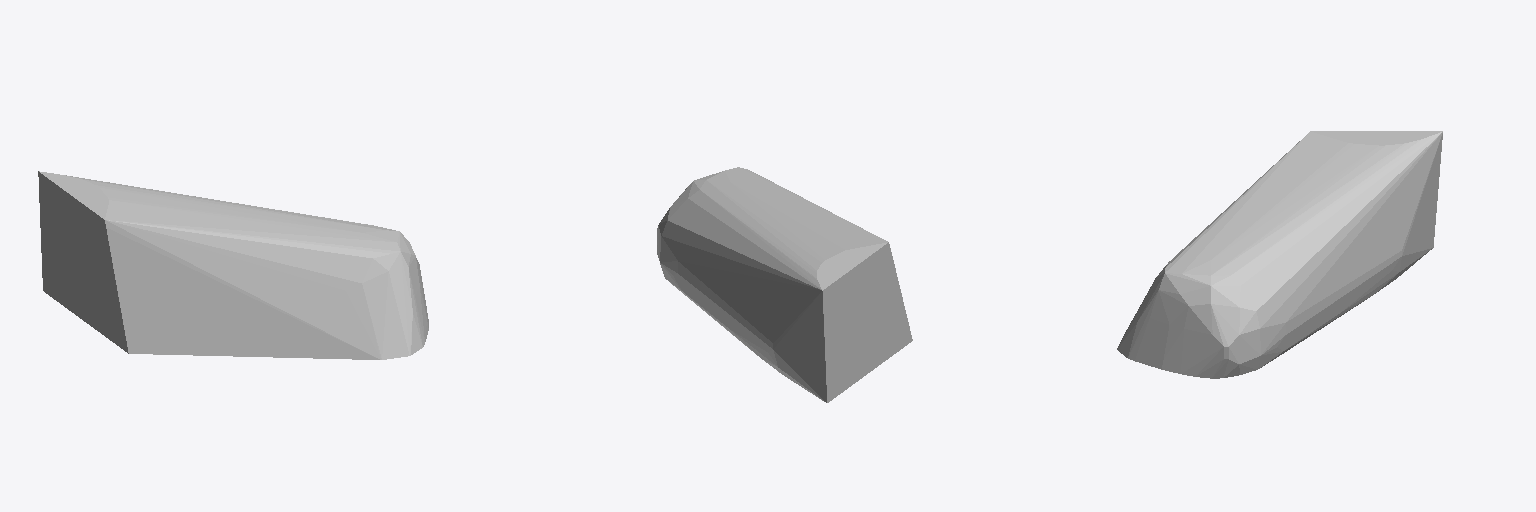
Rendered from sofa_collision_11.obj.
3 views of the same model, side by side, from view 1: azimuth 30°, elevation 25°; view 2: azimuth 150°, elevation 25°; view 3: azimuth 270°, elevation 25° (orthographic).
Bounding box in the file's own units: 100 × 40.98 × 104.